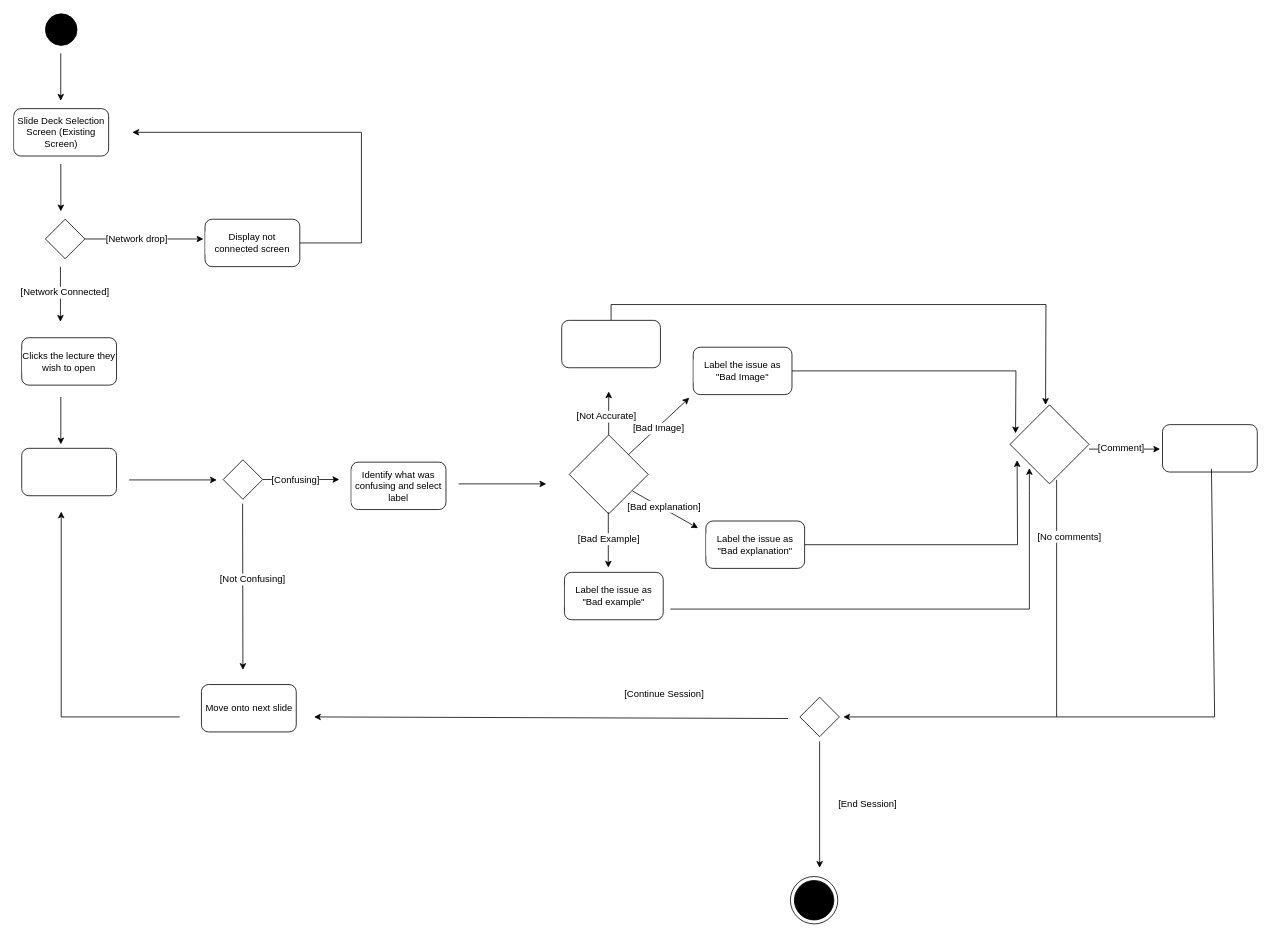
Image size: 1271x938. Some labels were removed from this diagram. Each missing label, with the centre of its shape:
Label the issue as "Not Accurate": (x=610, y=344)
Read the slide: (x=69, y=472)
Type comment: (x=1209, y=448)
